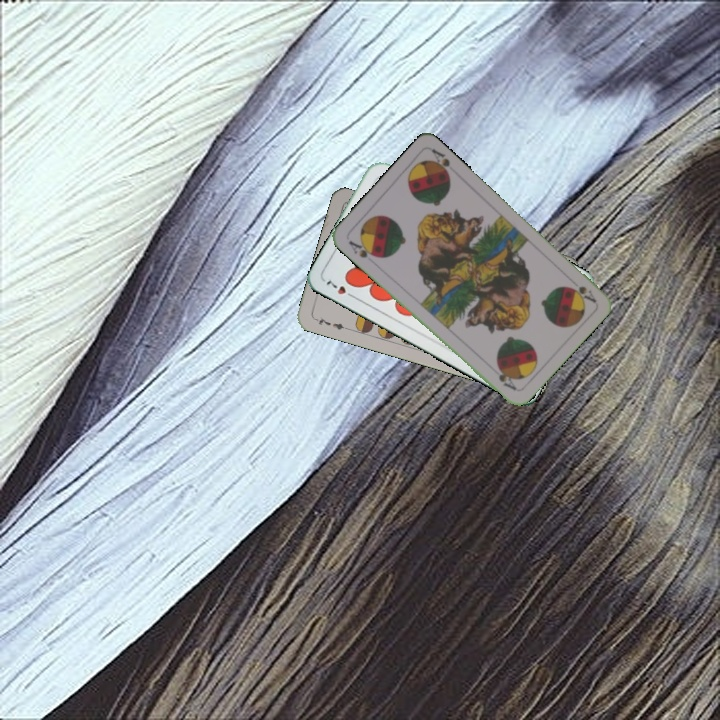E7: (310, 313, 350, 333)
H7: (322, 274, 358, 301)
SA: (344, 236, 381, 261), (565, 282, 599, 305)
